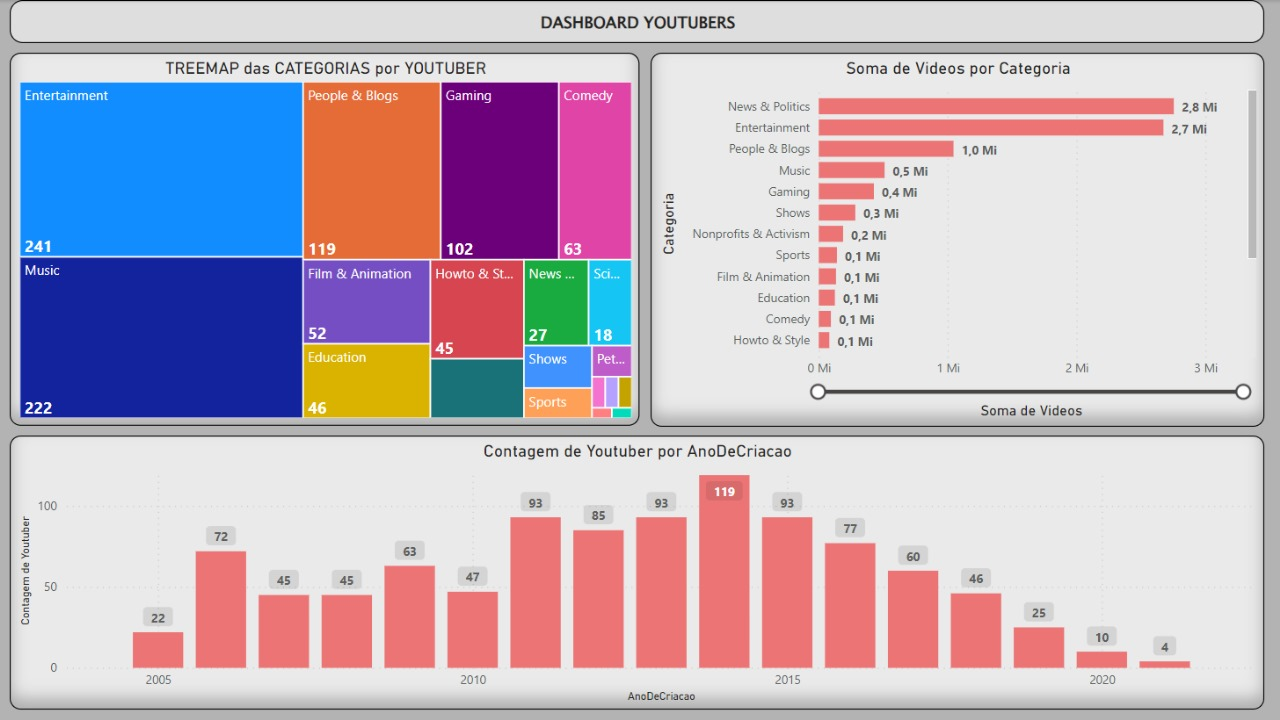

Layout of this report page (visuals, bound fields, positions):
{"tool":"powerbi","page":{"name":"Página 1","canvas":[1280,720],"ordinal":0},"visuals":[{"type":"treemap","title":"TREEMAP das CATEGORIAS por YOUTUBER","fields":{"Group":["YoutubersDB_Final.Categoria"],"Values":["CountNonNull(YoutubersDB_Final.Youtuber)"]},"box":[10.7,52.5,629.3,373.5],"z":0},{"type":"columnChart","fields":{"Category":["YoutubersDB_Final.AnoDeCriacao"],"Y":["CountNonNull(YoutubersDB_Final.Youtuber)"]},"box":[10.7,435.7,1252.8,274.3],"z":1000},{"type":"clusteredBarChart","fields":{"Category":["YoutubersDB_Final.Categoria"],"Y":["Sum(YoutubersDB_Final.Videos)"]},"box":[650.7,52.4,612.8,373.9],"z":2000},{"type":"textbox","box":[10.7,0,1252.8,42.7],"z":3000}]}

Visuals, with their boxes in screenshot pixels (x1, y1, x2, y2), scaled from the page's 1280x720 canvas onto the 1280x720 screenshot:
"TREEMAP das CATEGORIAS por YOUTUBER" treemap: <box>11,52,640,426</box>
columnChart - YoutubersDB_Final.AnoDeCriacao x CountNonNull(YoutubersDB_Final.Youtuber): <box>11,436,1264,710</box>
clusteredBarChart - YoutubersDB_Final.Categoria x Sum(YoutubersDB_Final.Videos): <box>651,52,1264,426</box>
textbox: <box>11,0,1264,43</box>
